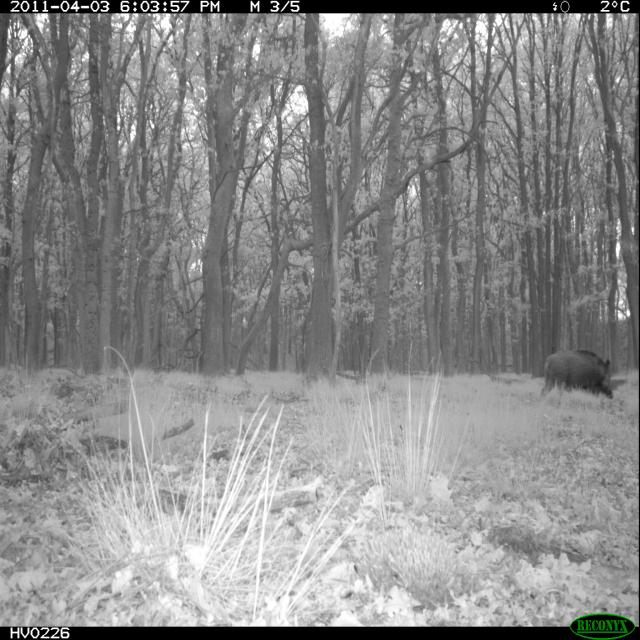boar: (532, 316, 635, 428)
